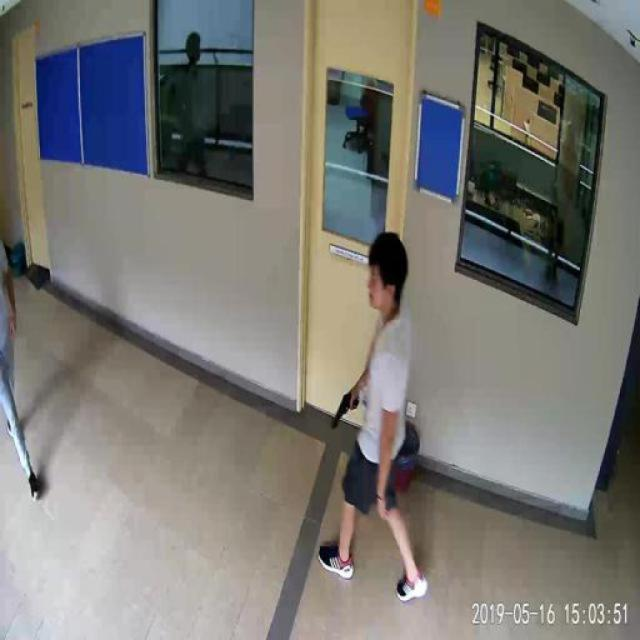pistol: (330, 386, 358, 426)
